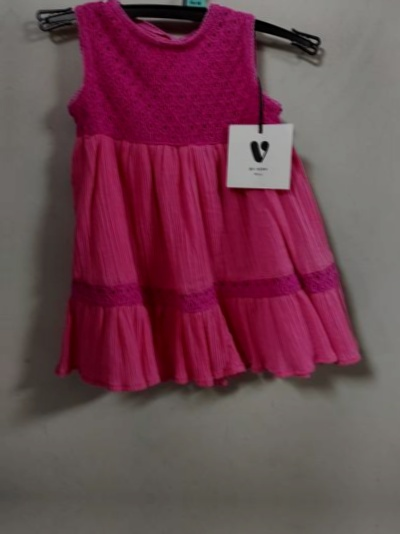Dress: (23, 0, 367, 401)
